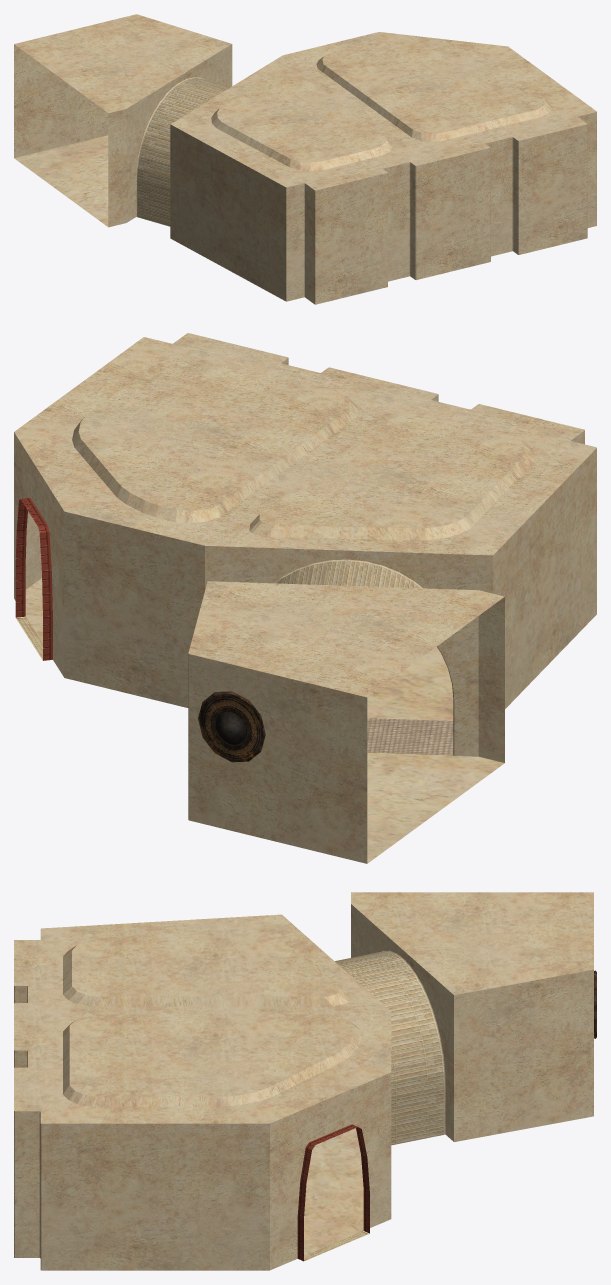
File: thm_tato_cantina_r1_foyer1_mesh_r1.fbx
3 views of the same model, one above another, from view 1: azimuth 30°, elevation 25°; view 2: azimuth 150°, elevation 25°; view 3: azimuth 270°, elevation 25° (orthographic). The views are drawn at different scales.
Parts seen in each view (by area): view 1: mesh_node; view 2: mesh_node; view 3: mesh_node.
Boxes of the visible parts, box(x1,y1,x2,y2) form: mesh_node: box(14, 14, 596, 304); mesh_node: box(14, 333, 596, 863); mesh_node: box(14, 892, 596, 1270).
Bounding box in the file's own units: 13.5 × 4.2 × 14.39.
